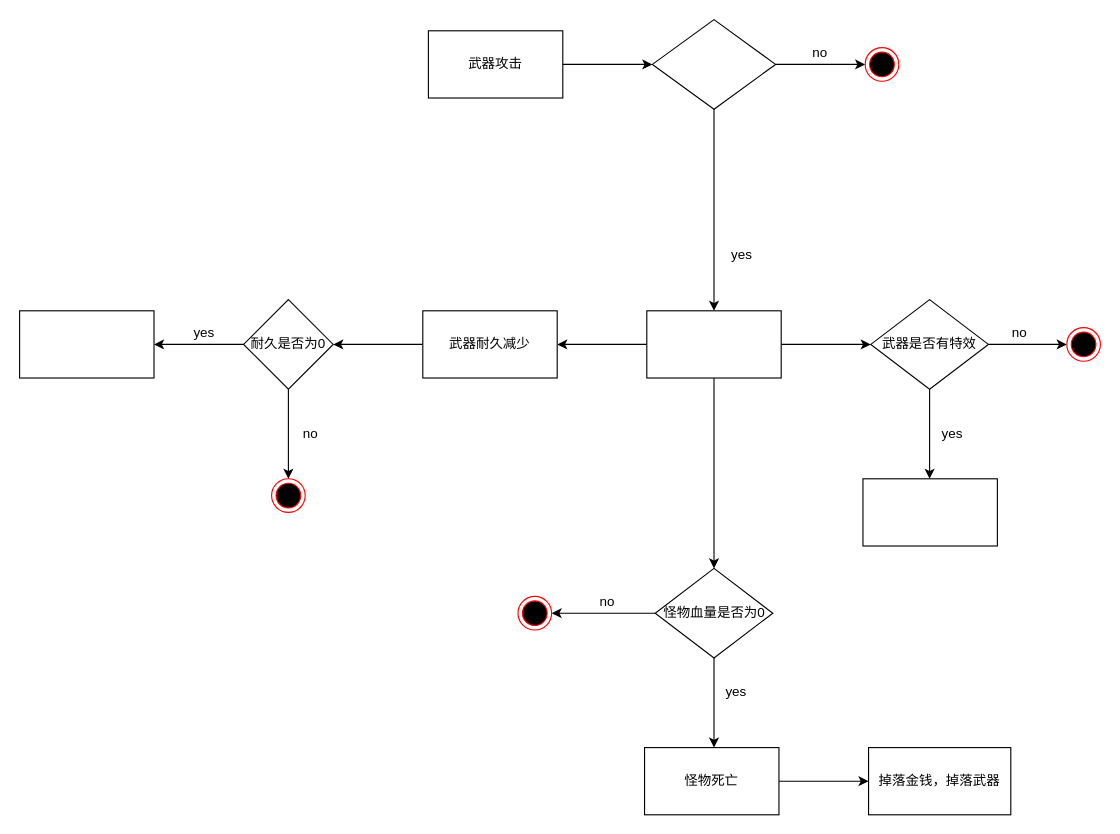
The diagram is 1120 pixels wide and 834 high, and some of its shapes have lost their labels. The shapes that lost their labels are listed below. From the top down, each one's centre as x and y in pixels, then its label:
At (713,63): "是否攻击到目标".
At (86,344): "销毁武器".
At (713,344): "怪物掉血".
At (929,512): "对怪物使用特效".
